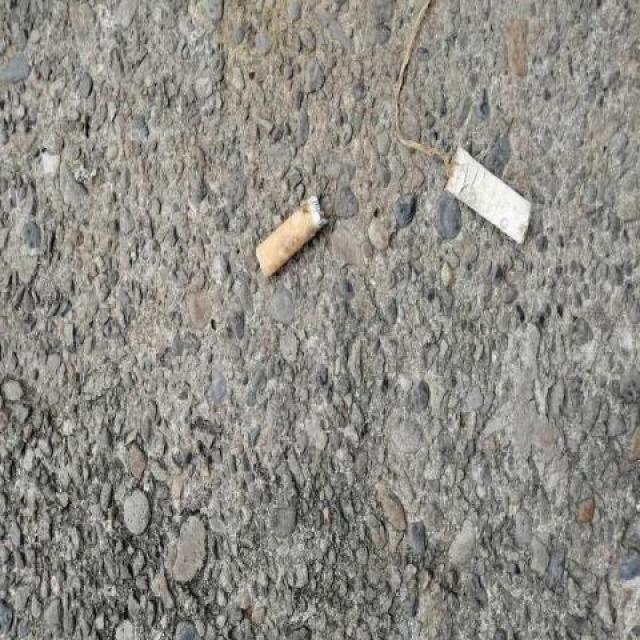non-organic waste: (441, 138, 535, 250), (253, 191, 330, 286)
